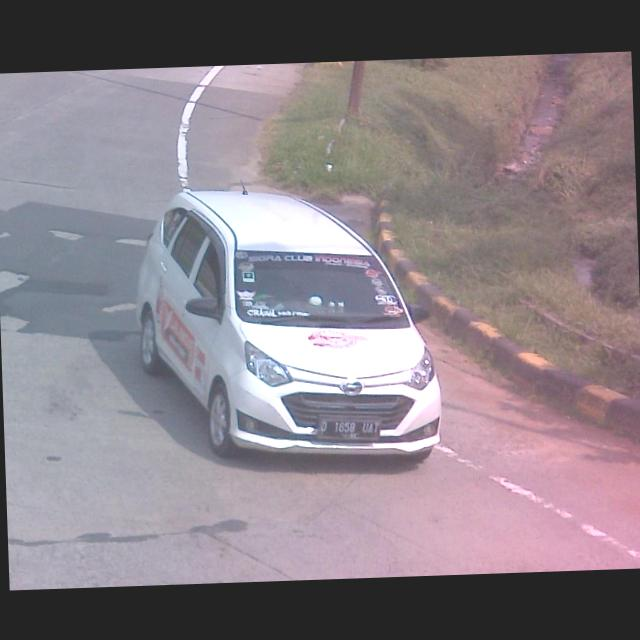plate: (319, 411, 380, 439)
